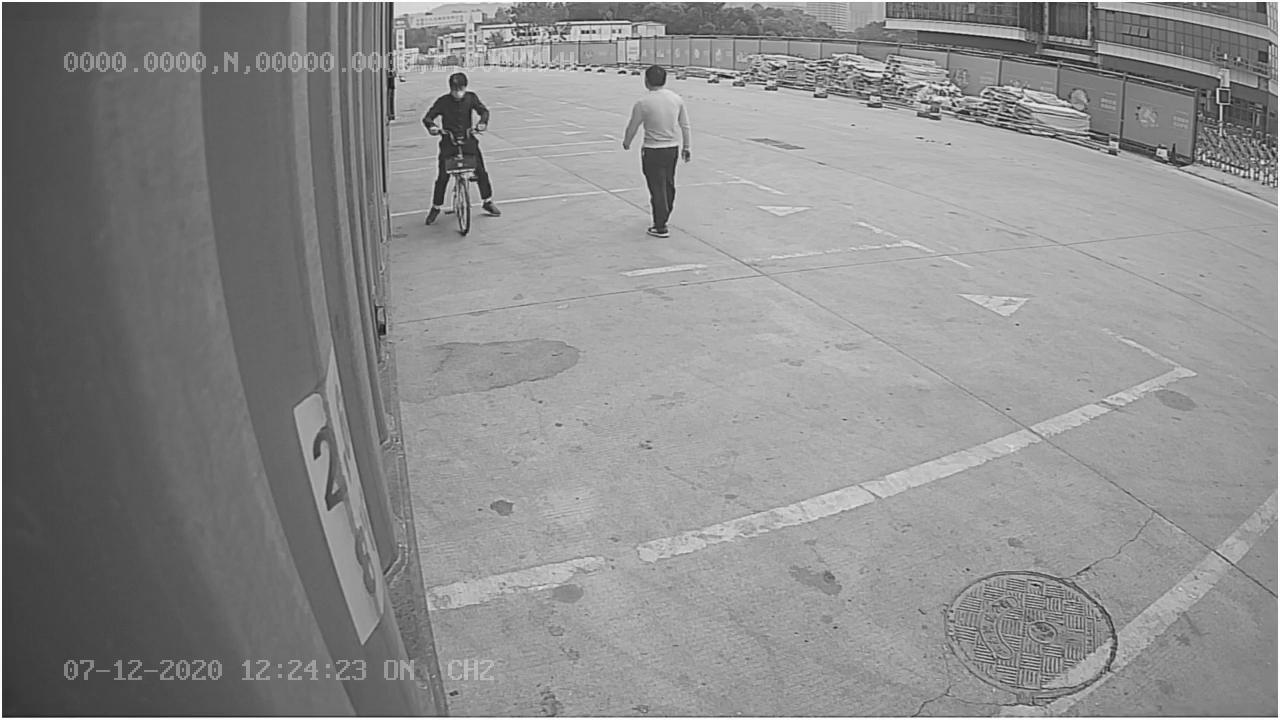person: (618, 62, 696, 243)
